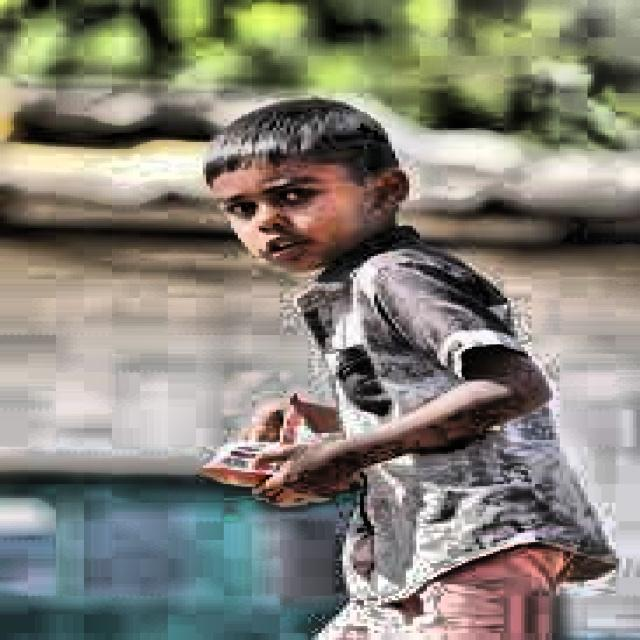Human: (170, 80, 601, 640)
